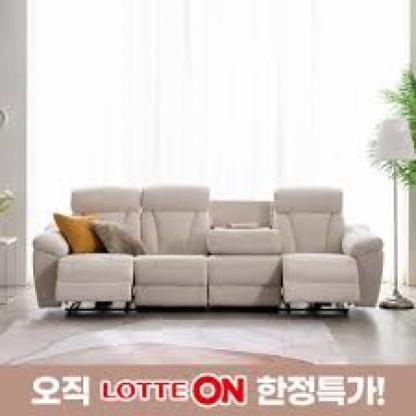Sofa: (29, 176, 388, 324)
